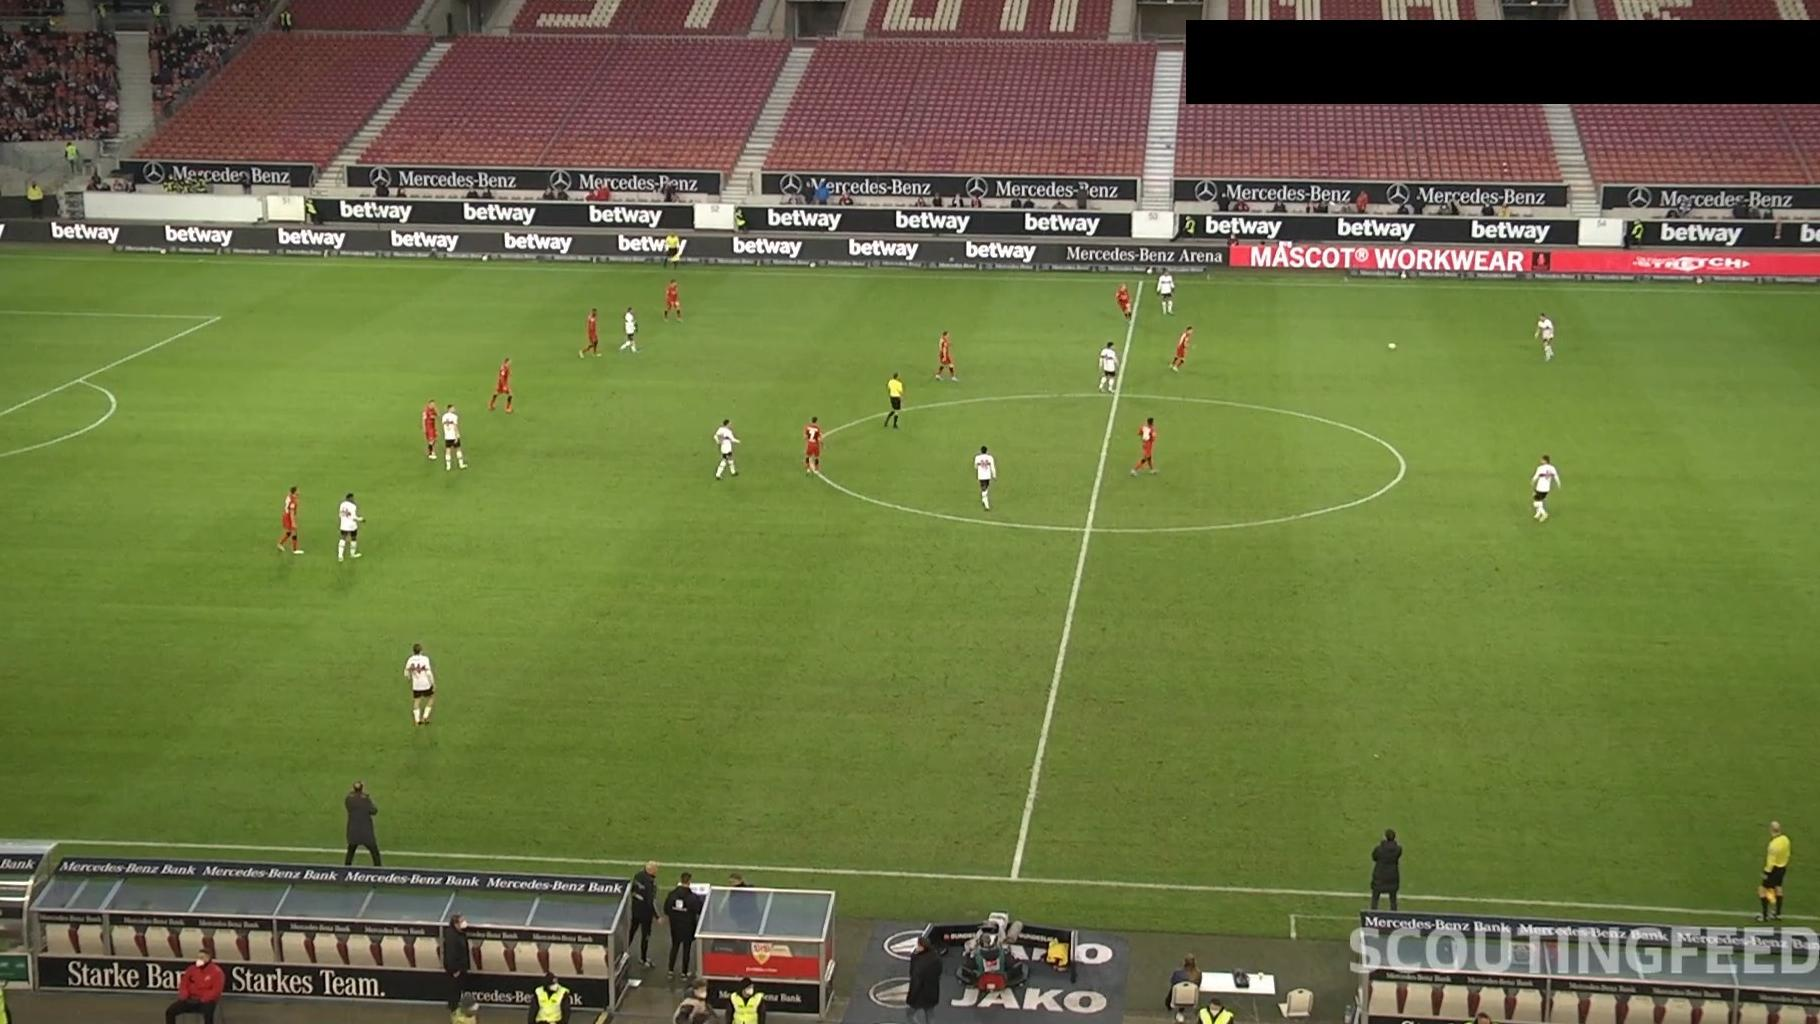ball: (1386, 341, 1397, 351)
